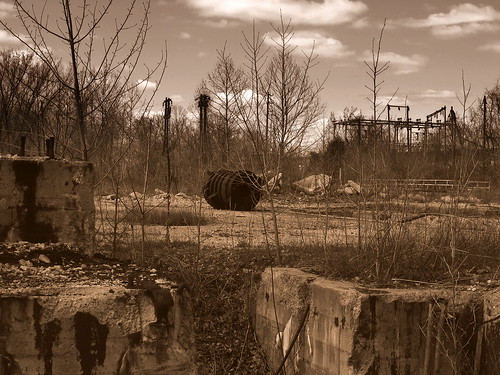sky: (1, 1, 496, 119)
tree: (7, 1, 138, 192), (247, 32, 326, 192), (187, 46, 254, 193)
